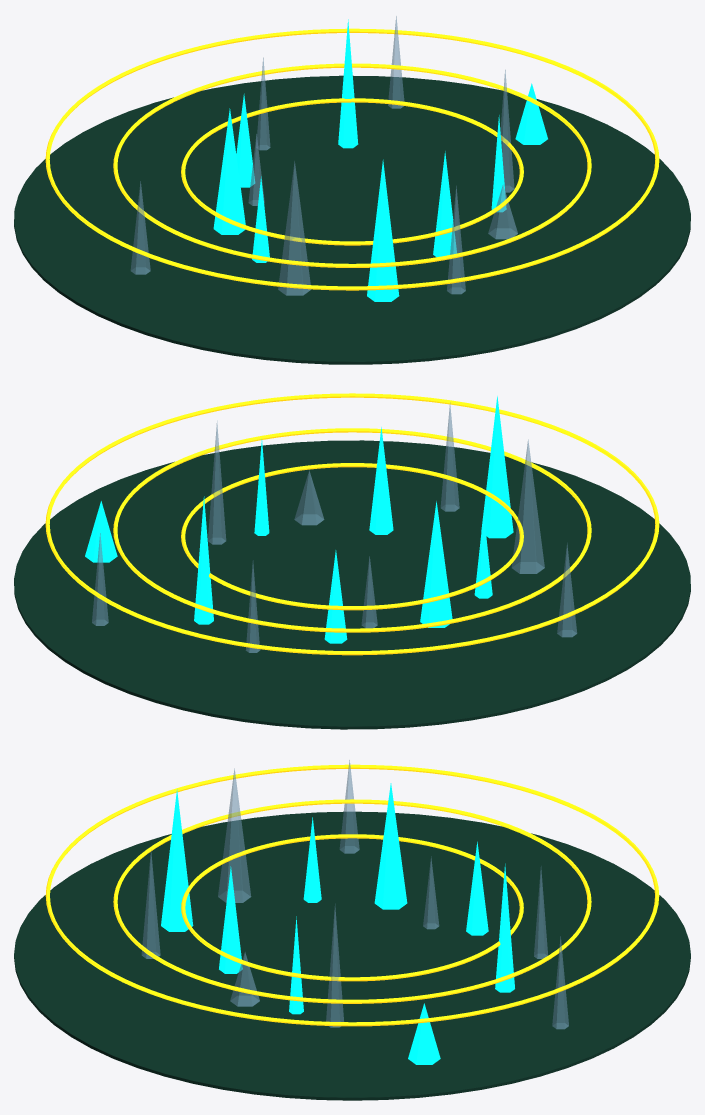
File: backdrop_10.glb
3 views of the same model, one above another, from view 1: azimuth 30°, elevation 25°; view 2: azimuth 150°, elevation 25°; view 3: azimuth 270°, elevation 25° (orthographic).
Parts seen in each view (by area): view 1: backdrop_10; view 2: backdrop_10; view 3: backdrop_10.
Part boxes in pixels (x1,y1,x2,y2): backdrop_10: [14, 16, 690, 364]; backdrop_10: [14, 393, 690, 729]; backdrop_10: [14, 760, 690, 1100].
Bounding box in the file's own units: 80 × 18.42 × 80.
